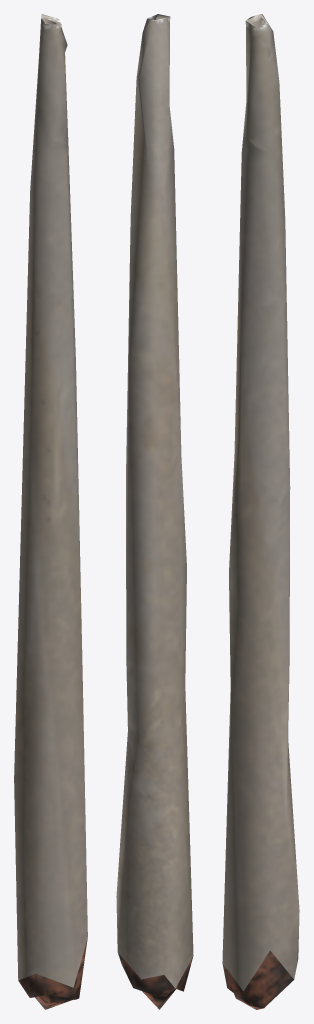
Rendered from JointLit.fbx.
3 views of the same model, side by side, from view 1: azimuth 30°, elevation 25°; view 2: azimuth 150°, elevation 25°; view 3: azimuth 330°, elevation 25° (orthographic).
Parts seen in each view (by area): view 1: Simplygon_Proxy_5153e068-431a-4114-9fa9-ebc27b8ea276.001; view 2: Simplygon_Proxy_5153e068-431a-4114-9fa9-ebc27b8ea276.001; view 3: Simplygon_Proxy_5153e068-431a-4114-9fa9-ebc27b8ea276.001.
Boxes of the visible parts, left/top/right/bottom form: Simplygon_Proxy_5153e068-431a-4114-9fa9-ebc27b8ea276.001: left=14, top=14, right=87, bottom=1009; Simplygon_Proxy_5153e068-431a-4114-9fa9-ebc27b8ea276.001: left=116, top=14, right=193, bottom=1009; Simplygon_Proxy_5153e068-431a-4114-9fa9-ebc27b8ea276.001: left=222, top=14, right=299, bottom=1009.
Bounding box in the file's own units: 0.00664 × 0.0965 × 0.00645.
